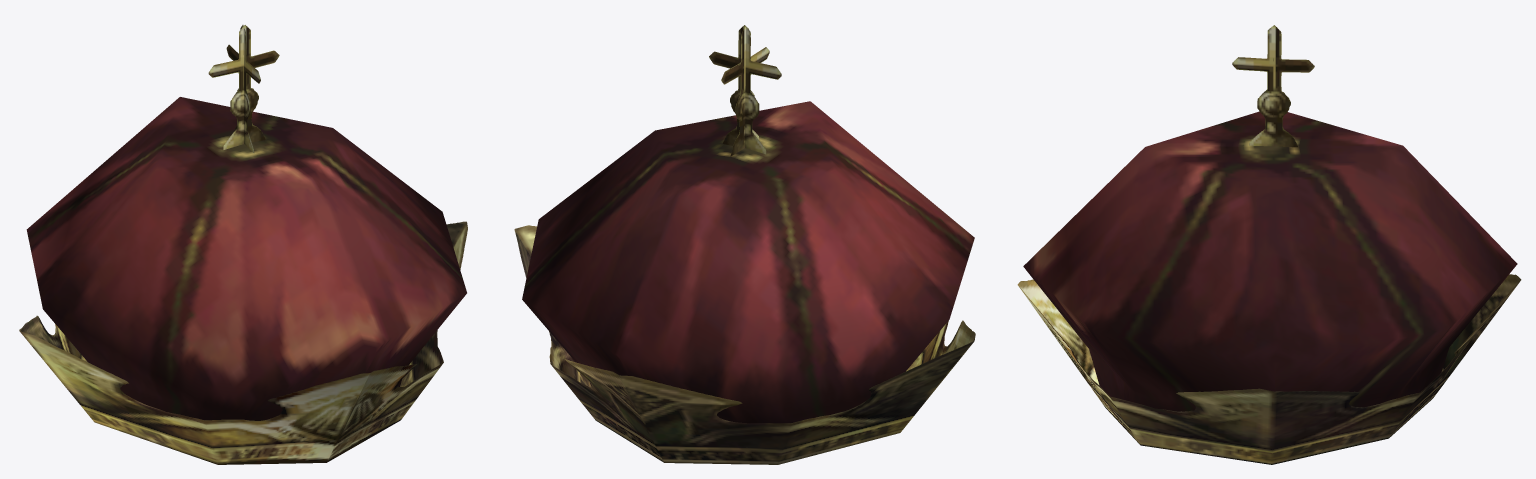
3 renders of one model, left to right at view 1: azimuth 30°, elevation 25°; view 2: azimuth 150°, elevation 25°; view 3: azimuth 270°, elevation 25°, orthographic. The views are drawn at different scales.
Parts seen in each view (by area): view 1: EM_011088_01_021; view 2: EM_011088_01_021; view 3: EM_011088_01_021.
Boxes of the visible parts, x1=… form: EM_011088_01_021: x1=19, y1=25, x2=467, y2=464; EM_011088_01_021: x1=514, y1=25, x2=975, y2=464; EM_011088_01_021: x1=1017, y1=25, x2=1521, y2=464.
Bounding box in the file's own units: 0.0921 × 0.0764 × 0.0886.
Materials: 2 (2 with a texture image).
